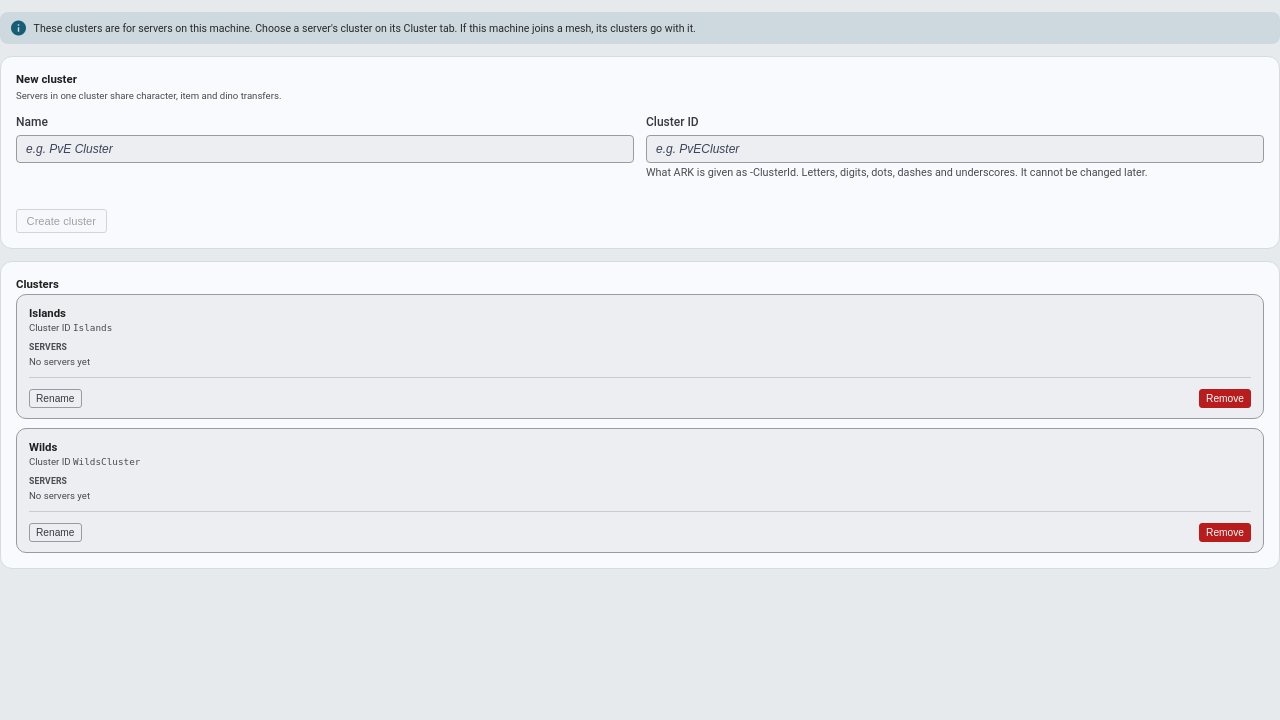
Test: ClustersSettingsComponent › renames a cluster
Click the 1st button "Rename" at point(55, 398), box x1=29 y1=389 x2=82 y2=408
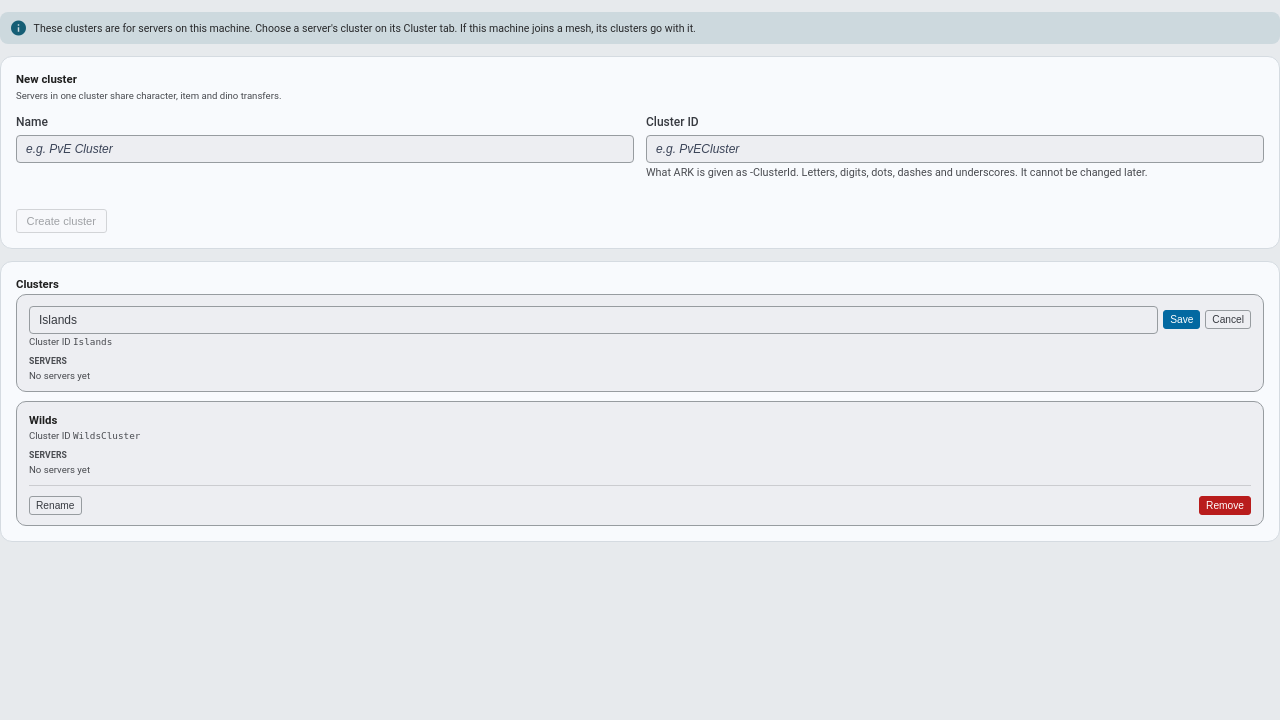
Replace the text in the field with class "cluster-rename-input" with "Isles" at point(594, 320), box x1=29 y1=306 x2=1158 y2=334
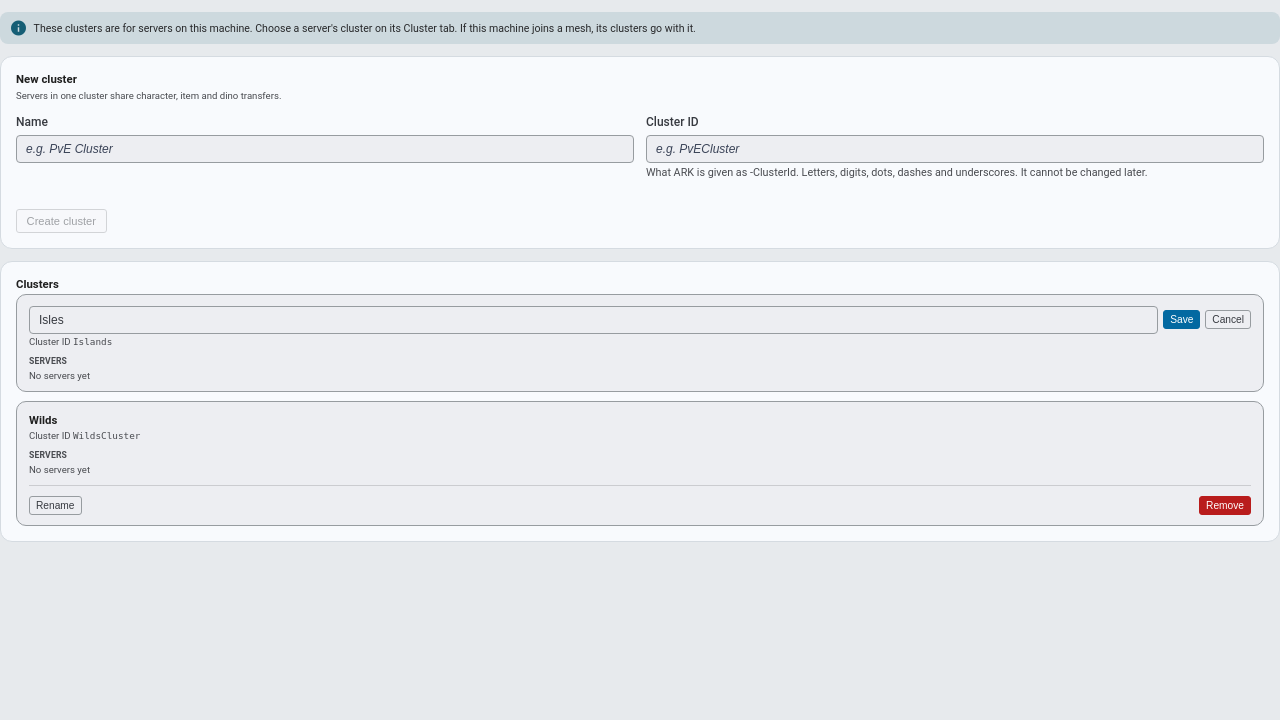
Click the button "Save" at point(1182, 320), box x1=1163 y1=310 x2=1200 y2=329
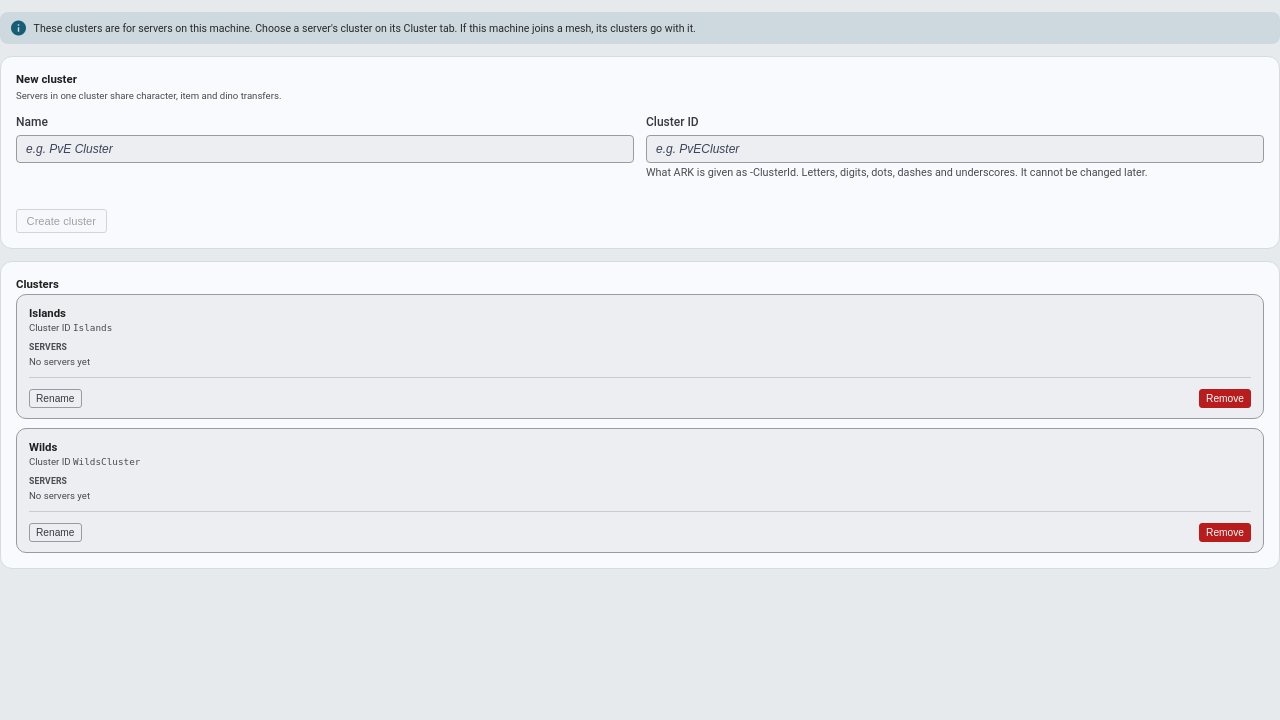
Now the field with class "cluster-rename-input" is gone
